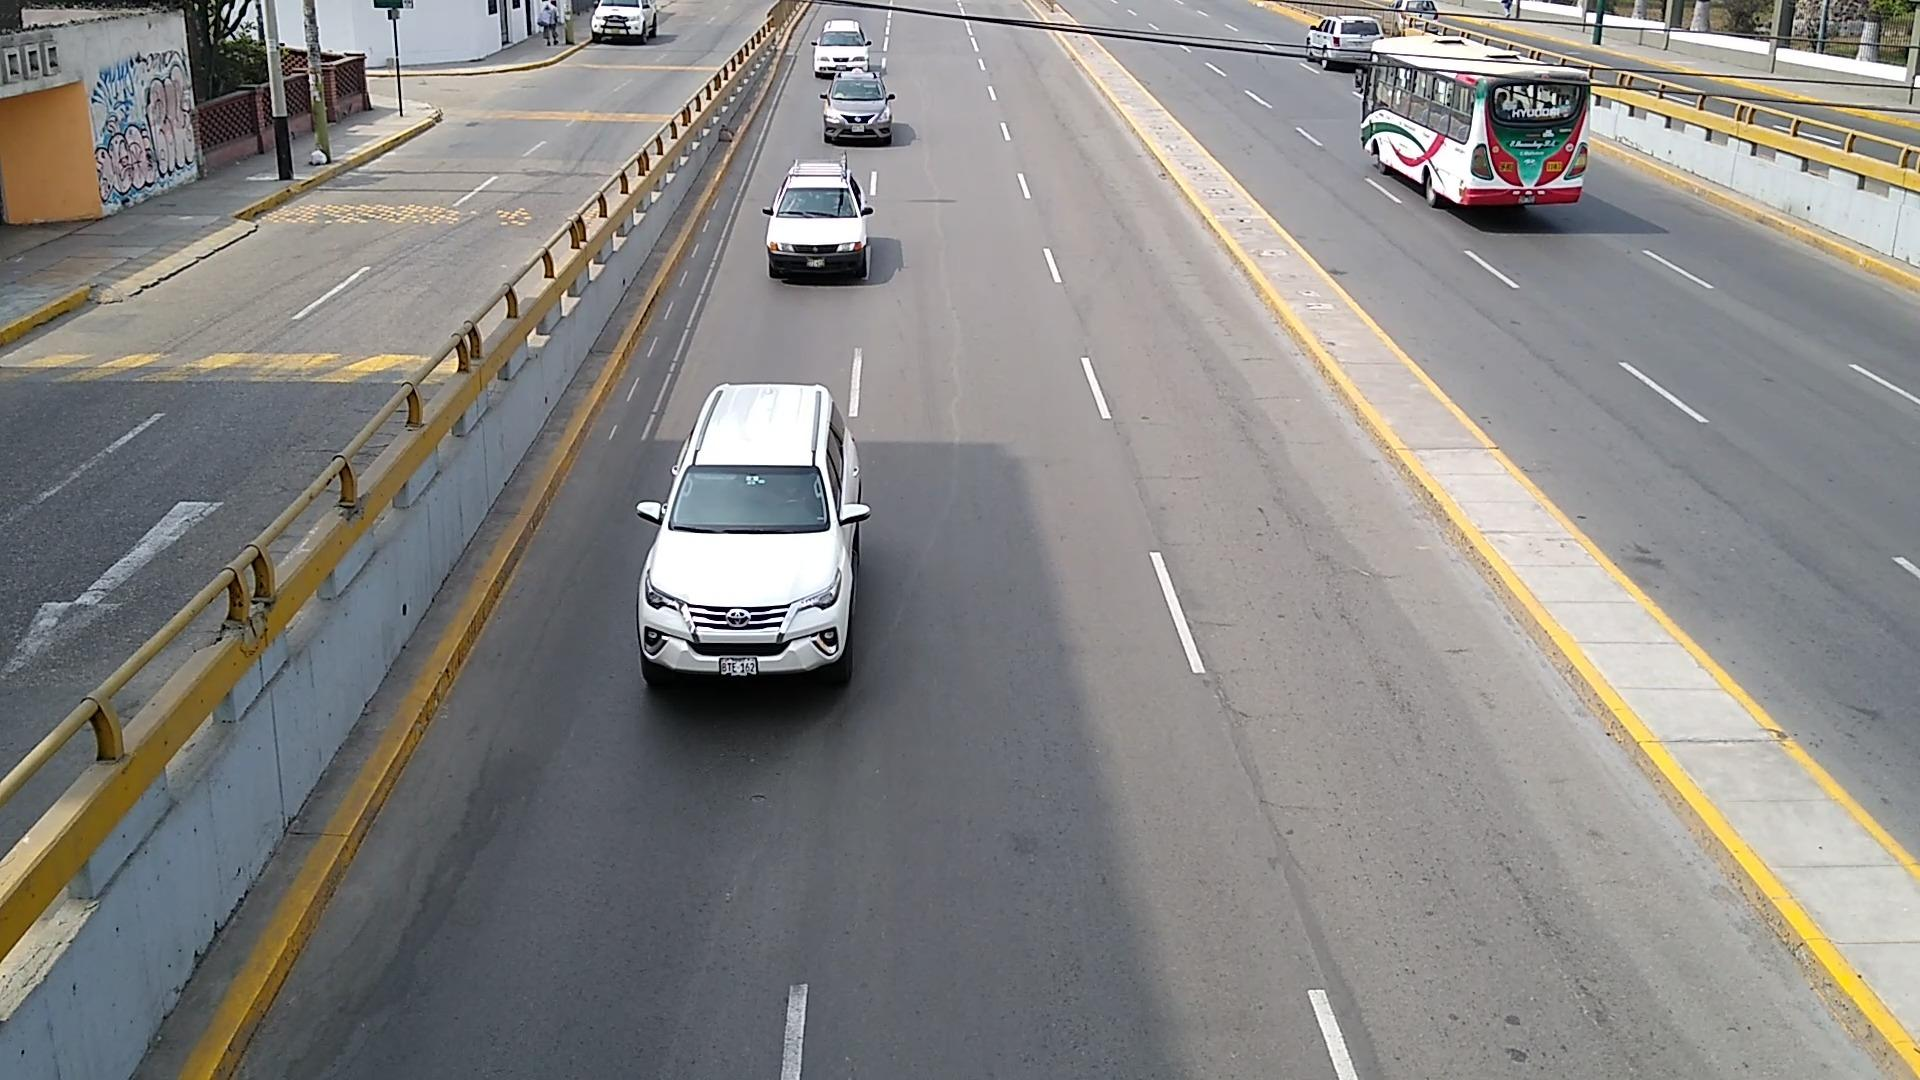bus: (1425, 75, 1455, 135)
car: (638, 382, 870, 686), (765, 158, 870, 278), (821, 71, 896, 142), (814, 19, 870, 77)
